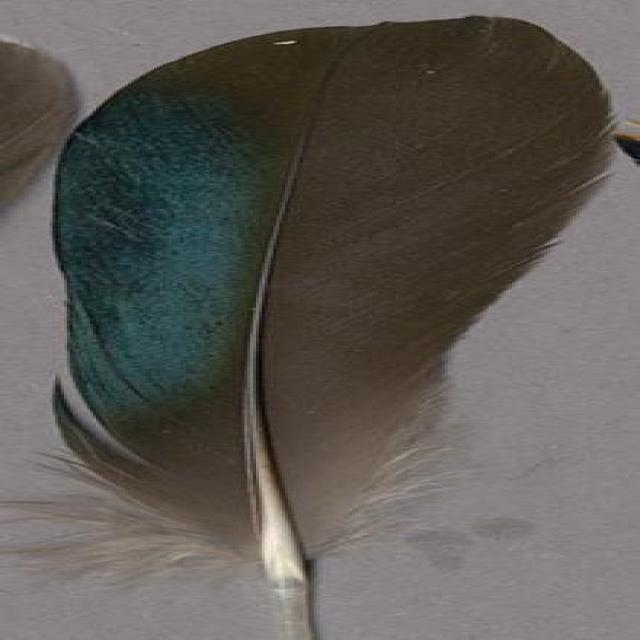feather: (33, 11, 619, 640)
